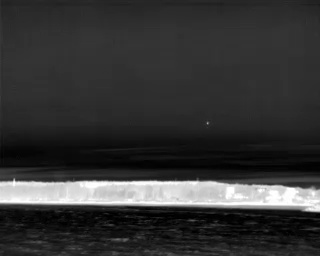HELICOPTER: (204, 119, 212, 129)
